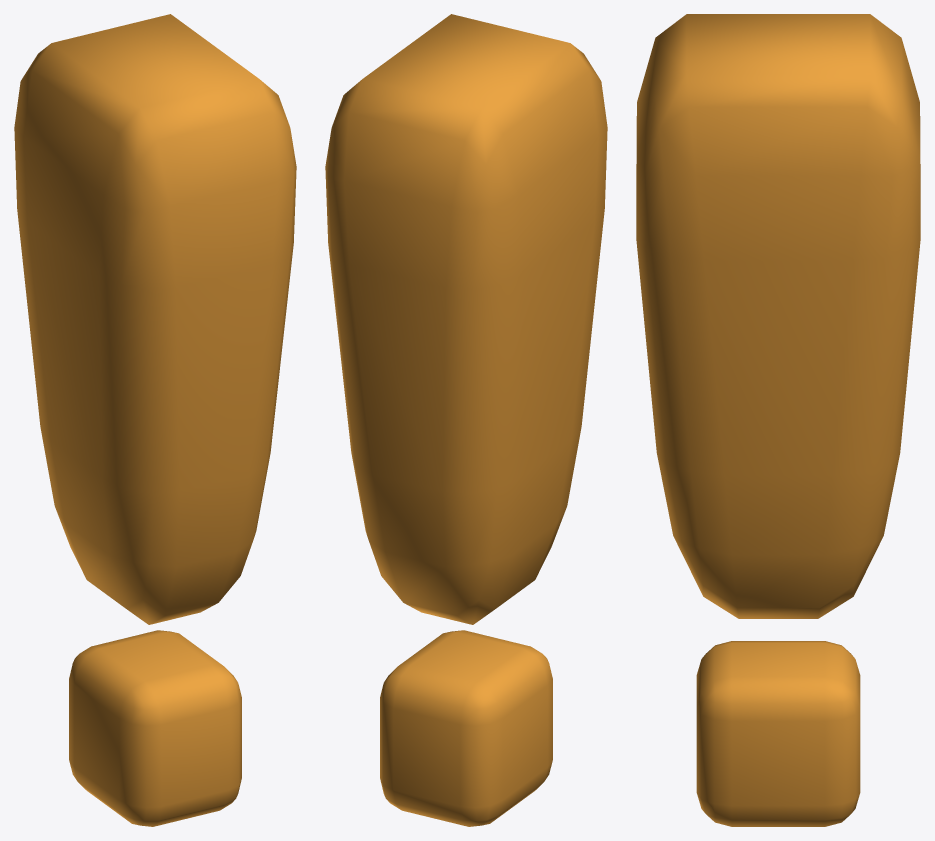
Rendered from 노란느낌표.fbx.
3 renders of one model, left to right at view 1: azimuth 30°, elevation 25°; view 2: azimuth 150°, elevation 25°; view 3: azimuth 270°, elevation 25°, orthographic. The views are drawn at different scales.
Visible parts, largest first — view 1: Cube, Cube.001; view 2: Cube, Cube.001; view 3: Cube, Cube.001.
Boxes of the visible parts, bbox=[...] form: Cube: bbox=[14, 14, 296, 624]; Cube.001: bbox=[69, 630, 241, 826]; Cube: bbox=[325, 14, 607, 624]; Cube.001: bbox=[380, 630, 552, 826]; Cube: bbox=[636, 14, 920, 618]; Cube.001: bbox=[696, 641, 860, 826].
Size of the model in its own units: 29.5 by 113 by 38.06.
